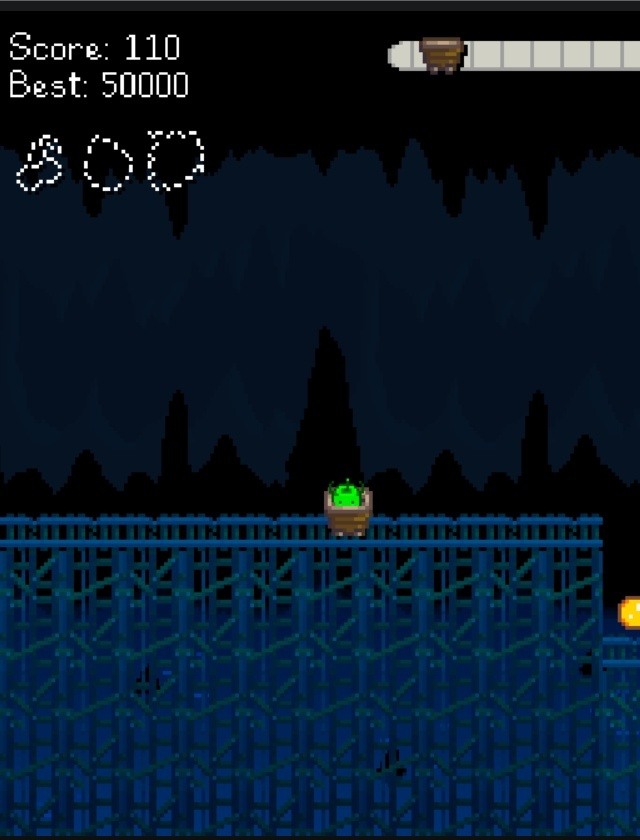coins: (619, 596, 639, 630)
minecart: (324, 480, 371, 536)
tracks: (0, 505, 319, 554), (380, 505, 606, 555)
